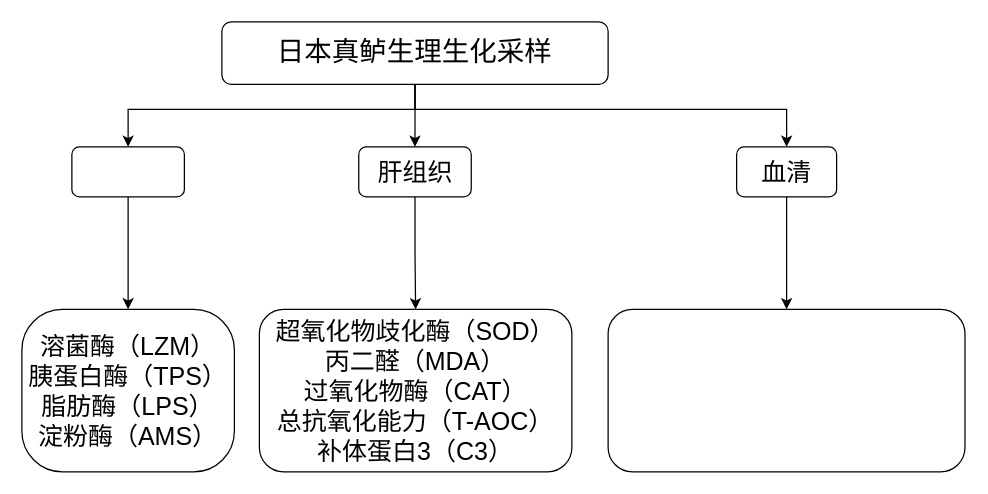
Image size: 988x494. Some labels were removed from this diagram. The shapes that lost their labels are listed below. From the top down, each one's box as (x1, y1, x2, y2) in pixels, then its label:
(71, 146, 184, 197): 肠道组织
(607, 308, 965, 472): 髓过氧化物酶（MPO） 高密度脂蛋白胆固醇（HDL-C） 低密度脂蛋白胆固醇（LDL-C） 皮质醇（Cortisol） 5-羟色胺（5-HT）
